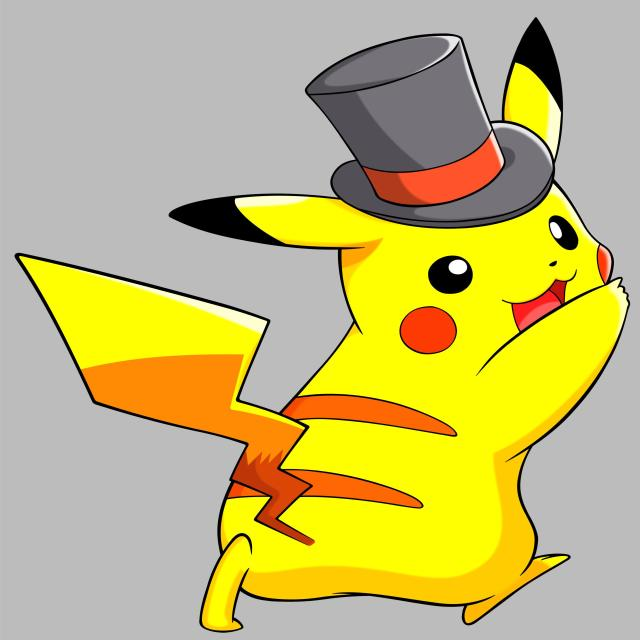pikachu: (14, 17, 626, 633)
